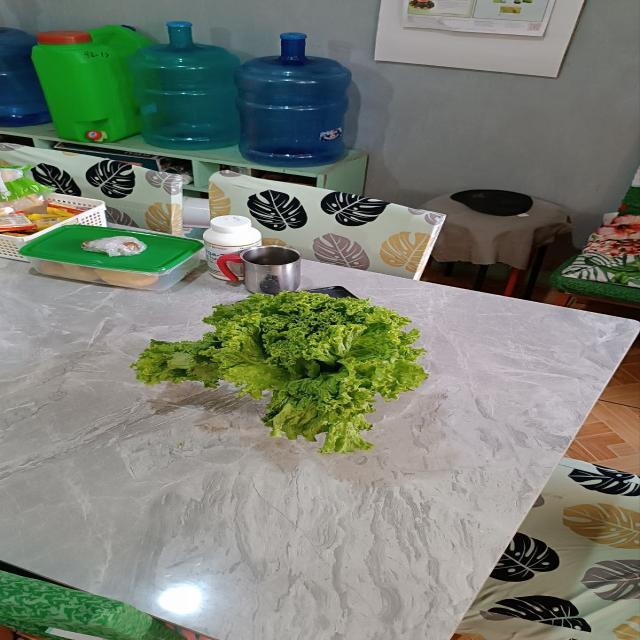Lettuce-Ready-to-Harvest: (133, 291, 421, 451)
